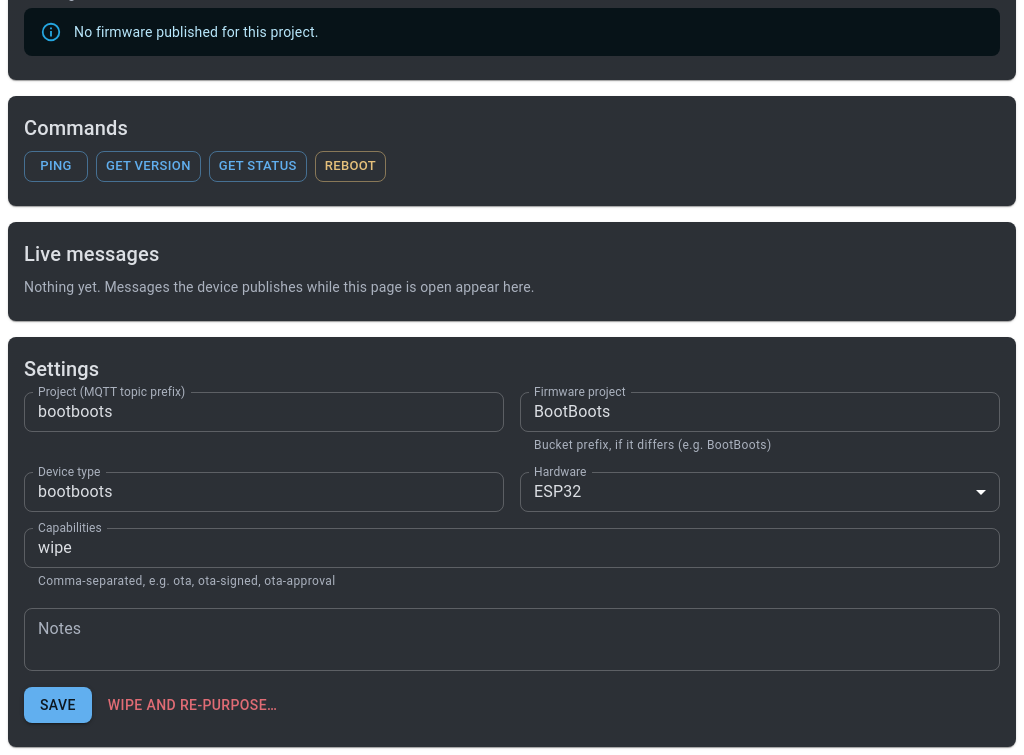
Test: wipes and re-purposes
The width and height of the screenshot is (1024, 755).
(page scrolled)
Click the button "Wipe and re-purpose…": [193, 705] box [100,686,285,723]
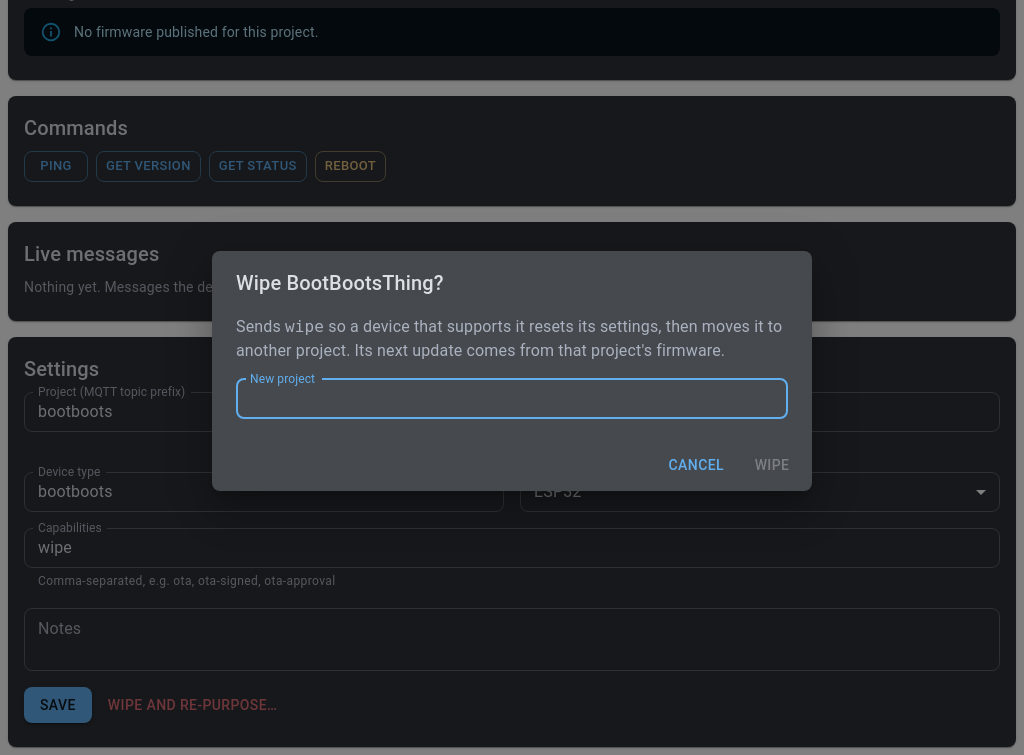
In the field labelled "New project": [512, 399] box [236,379,788,419], type "kappawarmer"
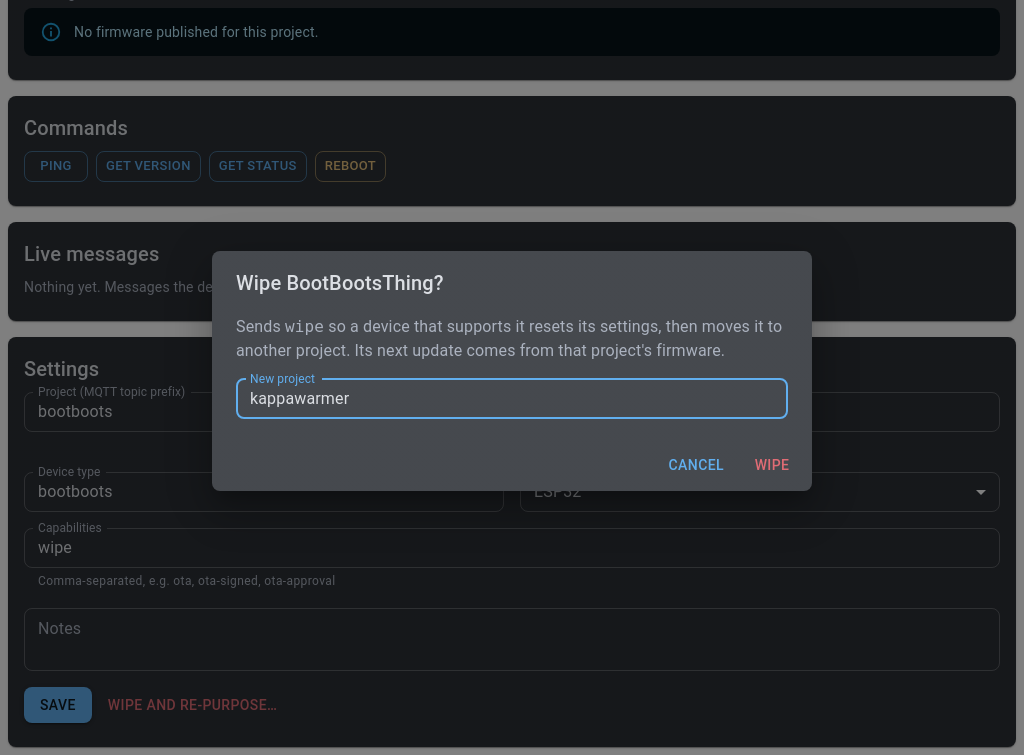
Click the button "Wipe": [772, 465] box [740,447,804,483]
(page scrolled)
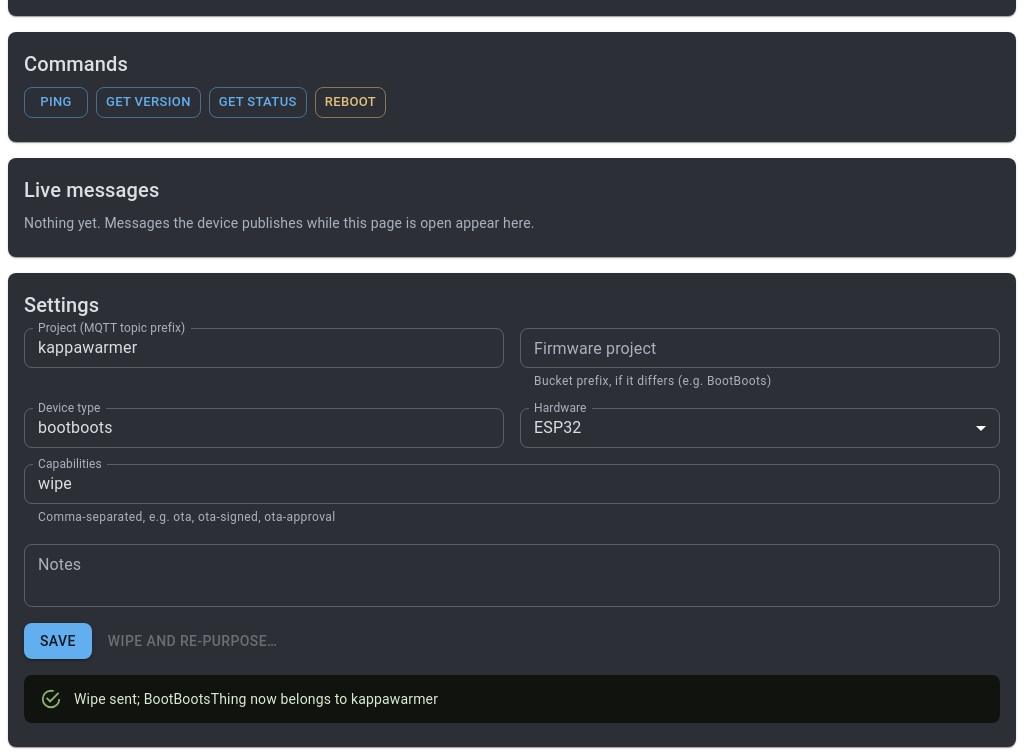
Result: the text "Wipe sent; BootBootsThing now belongs to kappawarmer" is shown at [74,691,438,707]
